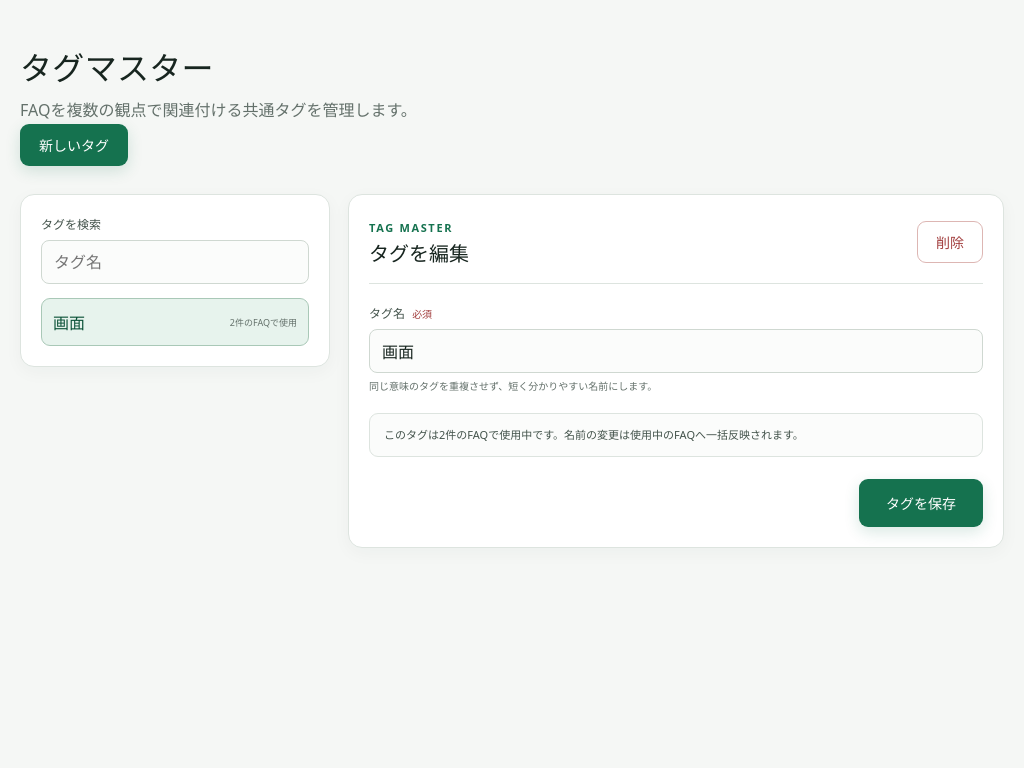
Test case: TagsPage › creates and renames tags while showing their FAQ usage
expect the text "2件のFAQで使用" is shown: met, box [230,316,297,329]
expect the text "このタグは2件のFAQで使用中です。名前の変更は使用中のFAQへ一括反映されます。" is shown: met, box [369,413,983,457]
Replace the text in the field labelled "タグ名 必須" with "ディスプレイ" at point(676, 351), box [369,329,983,373]
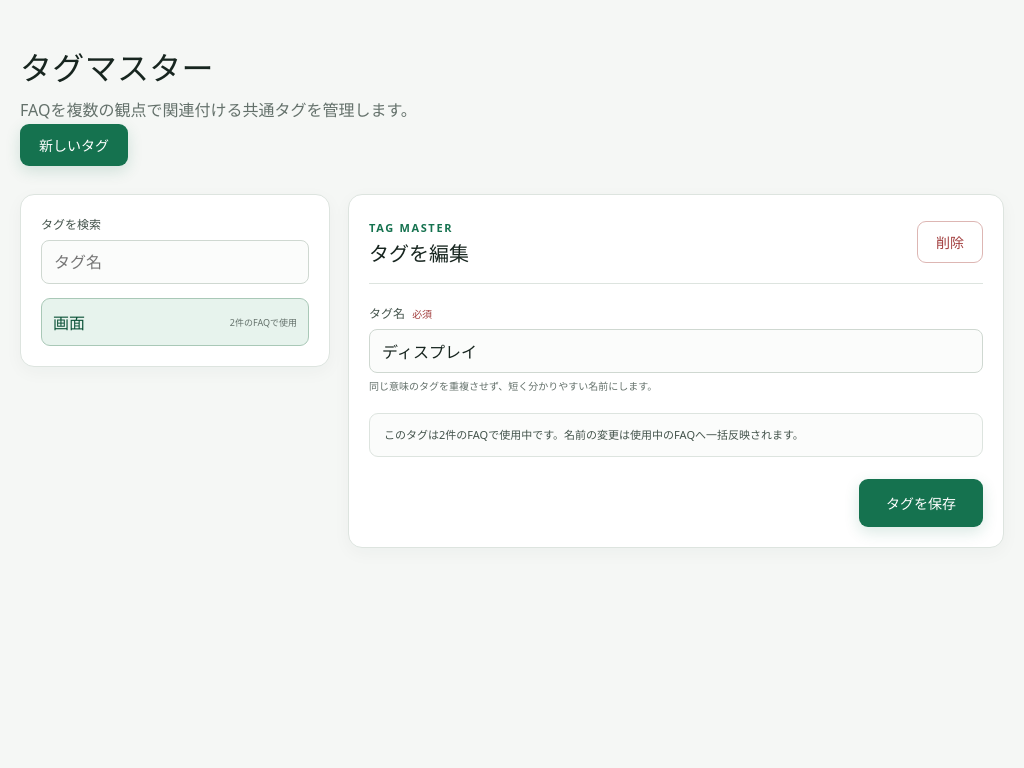
Click the button "タグを保存" at point(921, 503), box [859,479,983,527]
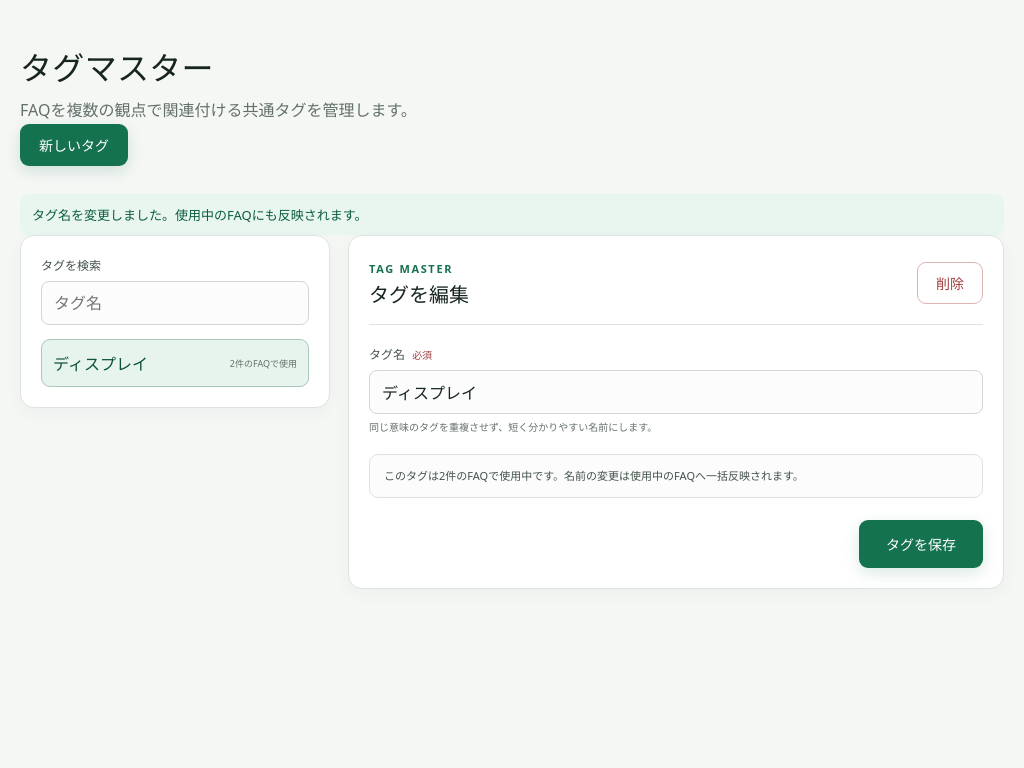
expect the text "タグ名を変更しました。使用中のFAQにも反映されます。" is shown: met, box [20,194,1004,235]
